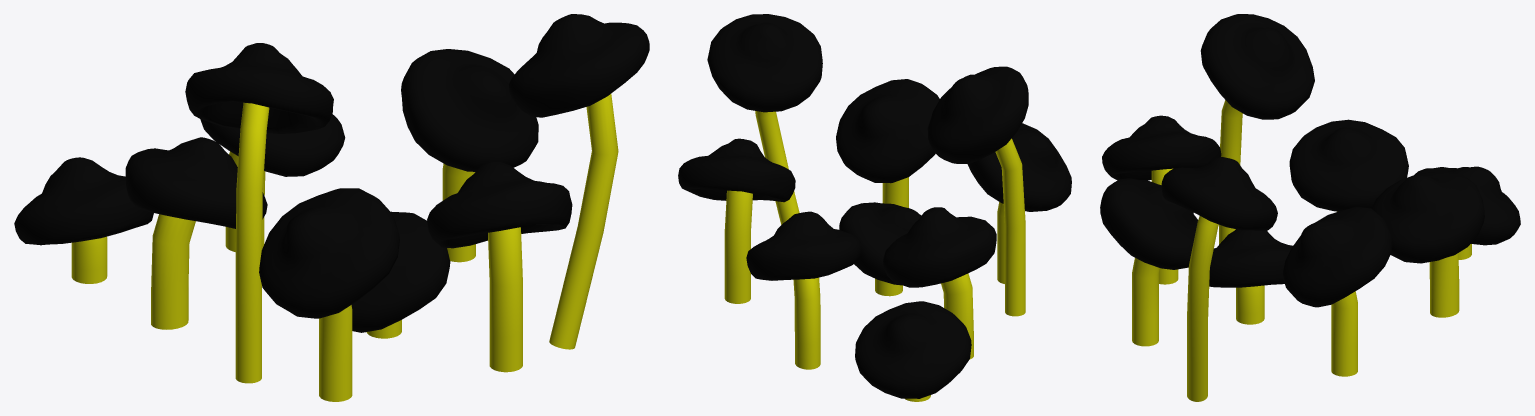
File: Mushroom_SmallGroup_lp.fbx
The picture shows the model from 3 angles, left to right: view 1: azimuth 30°, elevation 25°; view 2: azimuth 150°, elevation 25°; view 3: azimuth 270°, elevation 25°; orthographic projection. The views are drawn at different scales.
Visible parts, largest first — view 1: Patch1; view 2: Patch1; view 3: Patch1.
Boxes of the visible parts, x1,y1,x2,y2 form: Patch1: [14, 14, 649, 401]; Patch1: [678, 14, 1071, 401]; Patch1: [1100, 14, 1520, 401].
Bounding box in the file's own units: 0.6713 × 0.4578 × 0.6517.
